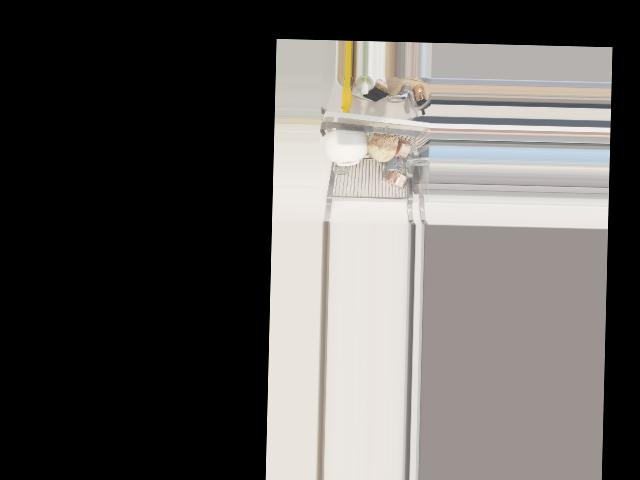onion: (367, 130, 396, 164)
